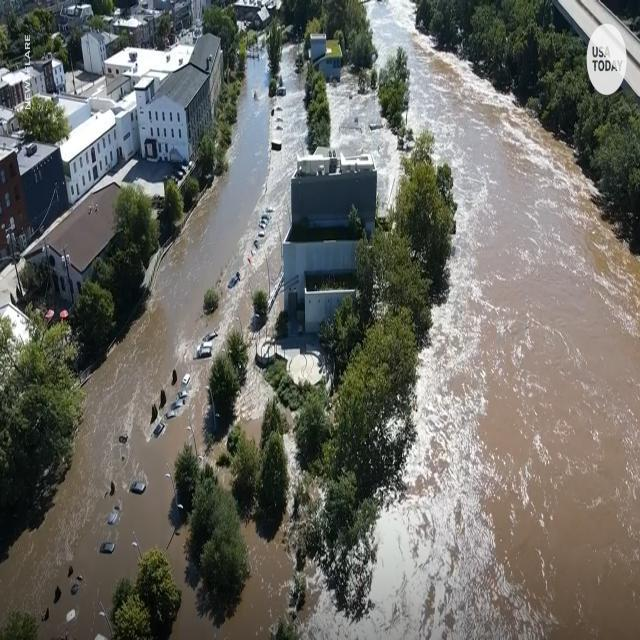flood: (303, 0, 640, 640), (0, 54, 305, 640), (214, 406, 300, 640), (221, 284, 285, 446), (332, 84, 400, 204), (197, 407, 231, 490)
house: (30, 179, 127, 298), (138, 48, 216, 168), (49, 100, 128, 205), (0, 59, 48, 109), (107, 42, 162, 78), (78, 30, 115, 76), (236, 0, 273, 27), (304, 29, 332, 62)
